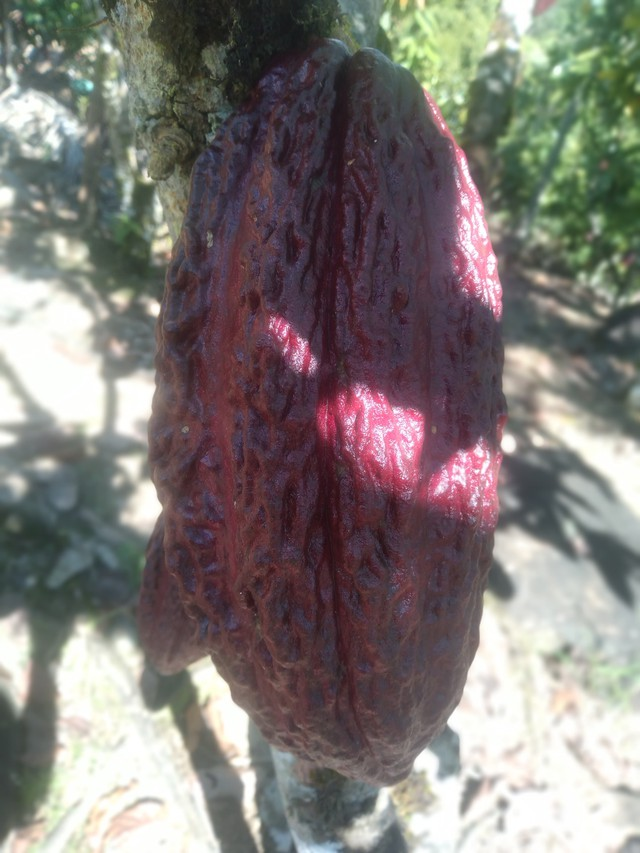Health: (130, 28, 530, 799)
